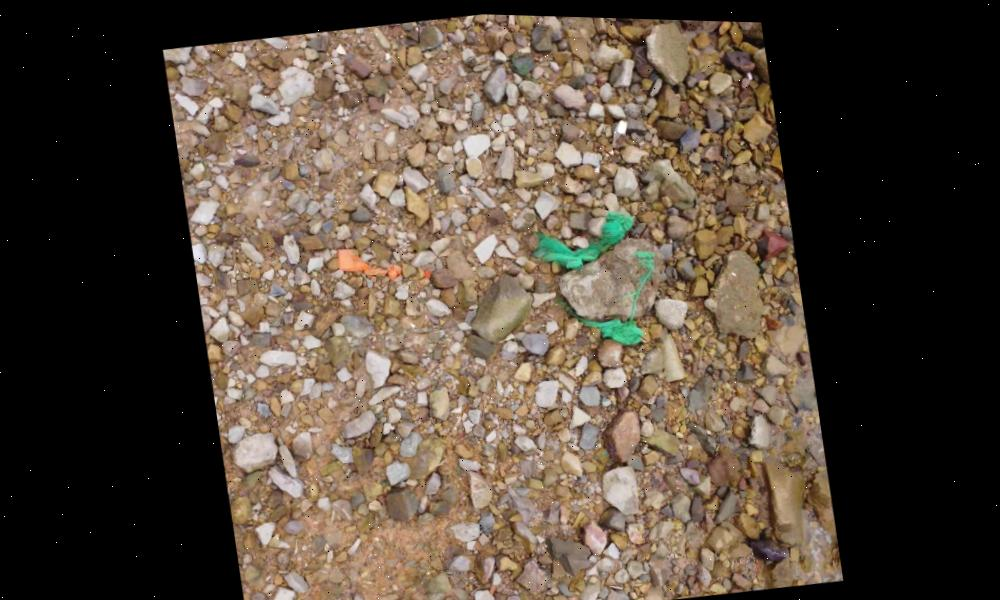plastic bag: (520, 185, 649, 270), (568, 251, 666, 356)
